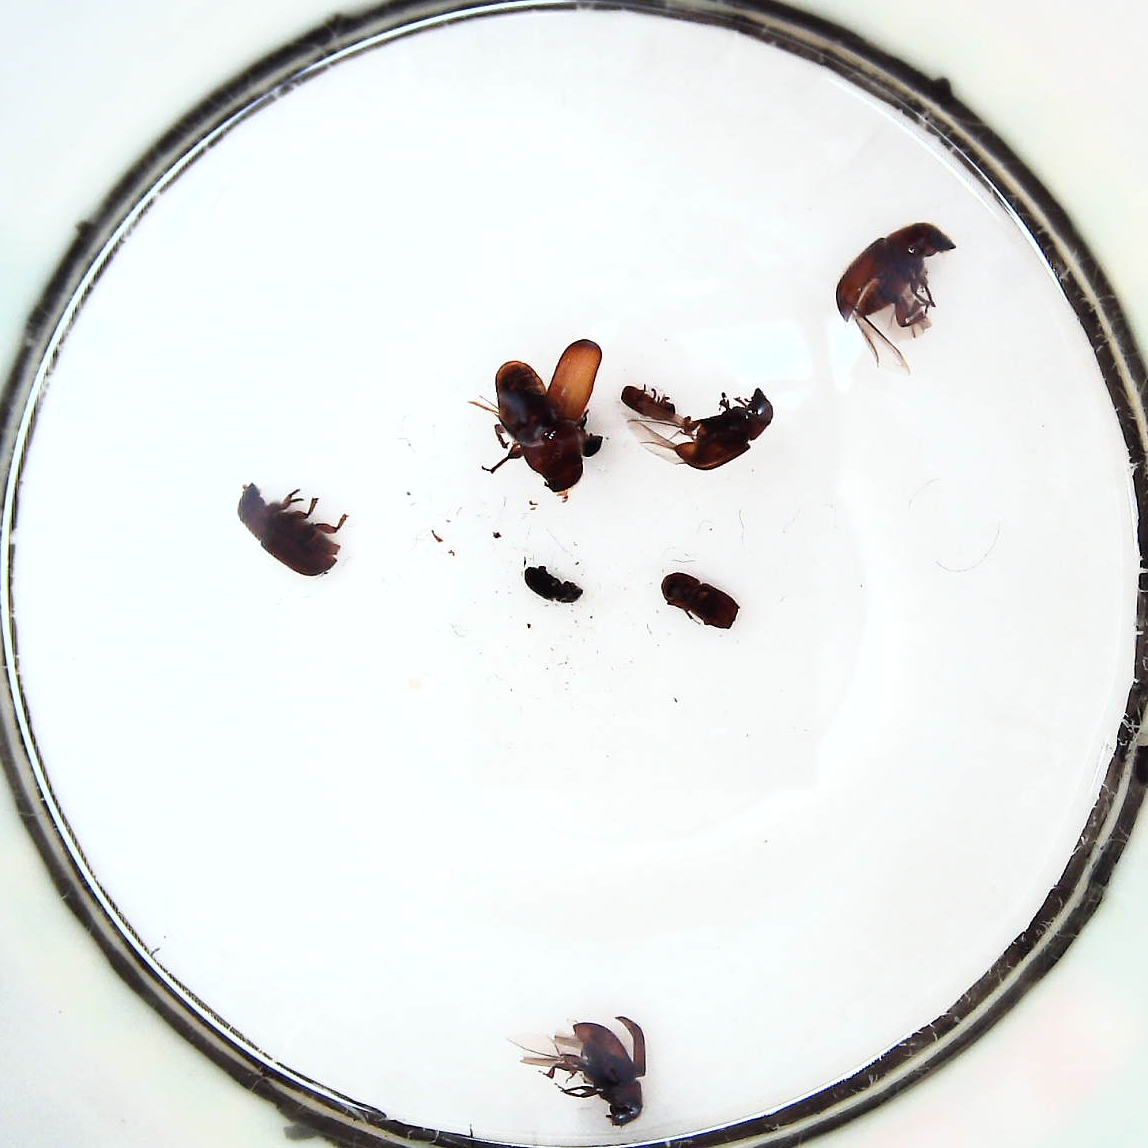Leconte: (493, 336, 602, 495), (834, 219, 957, 341), (535, 1011, 650, 1126), (237, 481, 343, 578), (675, 380, 775, 469)
Linnaeus: (653, 563, 742, 631)
acuminatus: (614, 378, 676, 423)
coleoptera: (517, 557, 591, 606)
